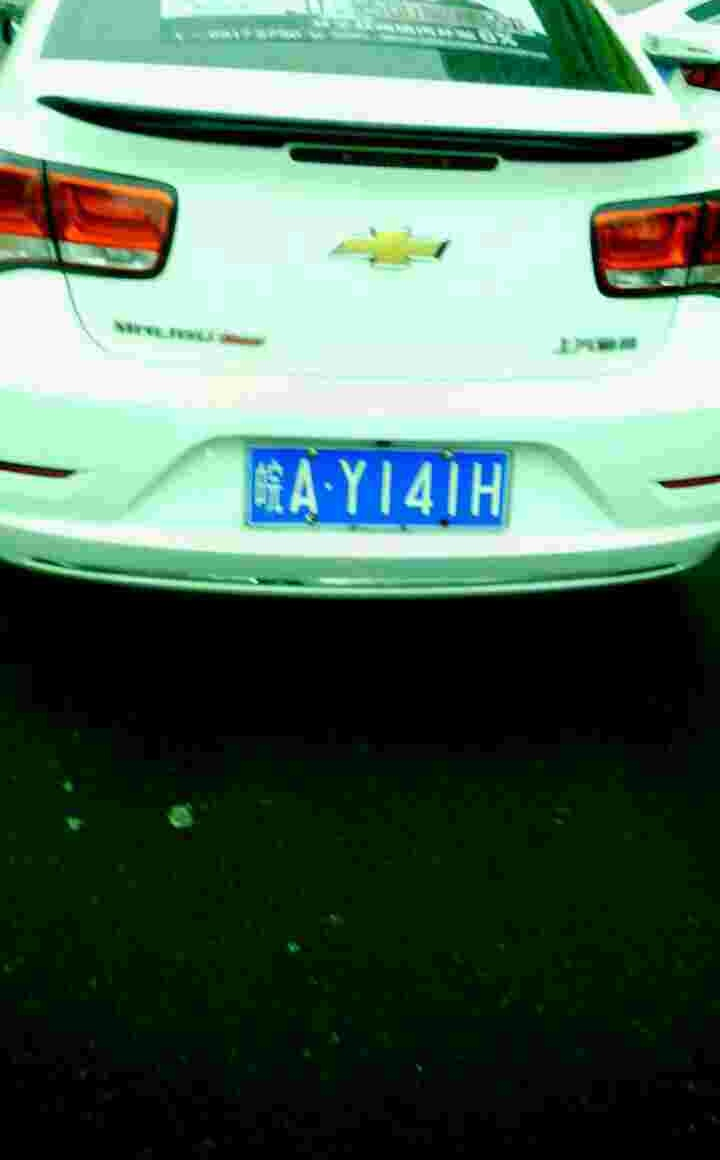license_plate: (249, 442, 513, 534)
